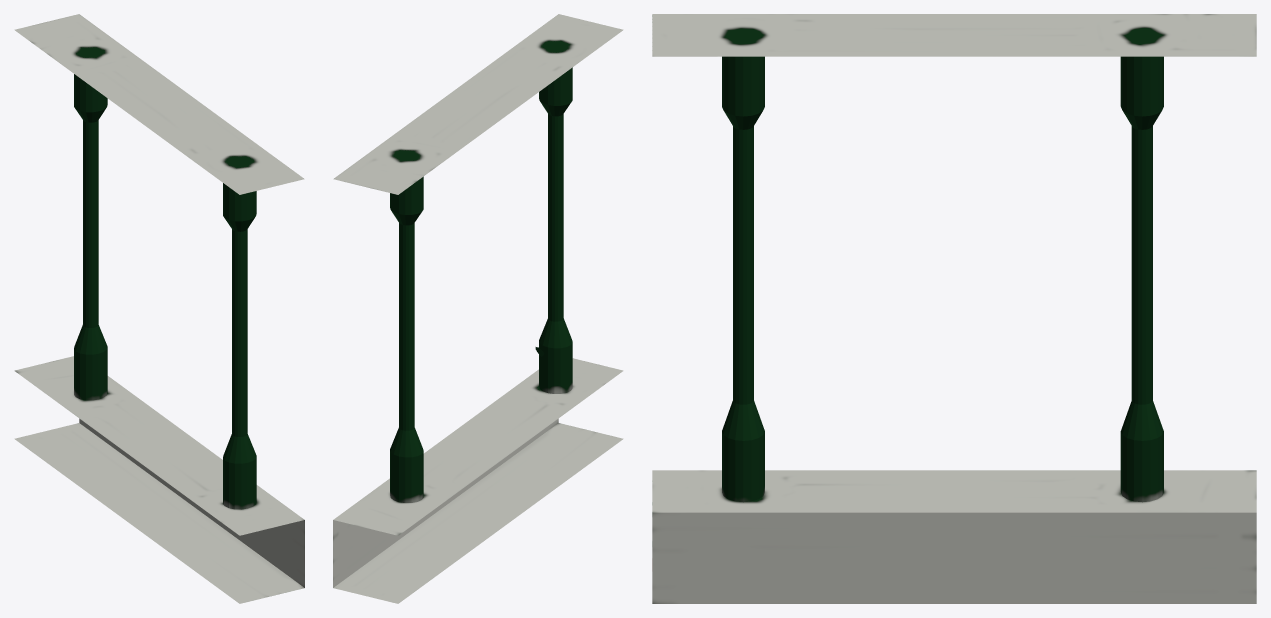
Rendered from Atrium_SIDE1_Empty_Wall.fbx.
3 views of the same model, side by side, from view 1: azimuth 30°, elevation 25°; view 2: azimuth 150°, elevation 25°; view 3: azimuth 270°, elevation 25° (orthographic). The views are drawn at different scales.
Parts seen in each view (by area): view 1: Atrium_SIDE1_Empty_Wall; view 2: Atrium_SIDE1_Empty_Wall; view 3: Atrium_SIDE1_Empty_Wall.
Part boxes in pixels (bbox=[...]): Atrium_SIDE1_Empty_Wall: bbox=[14, 14, 304, 603]; Atrium_SIDE1_Empty_Wall: bbox=[333, 14, 623, 603]; Atrium_SIDE1_Empty_Wall: bbox=[652, 14, 1256, 603].
Size of the model in its own units: 50 by 300 by 300.
